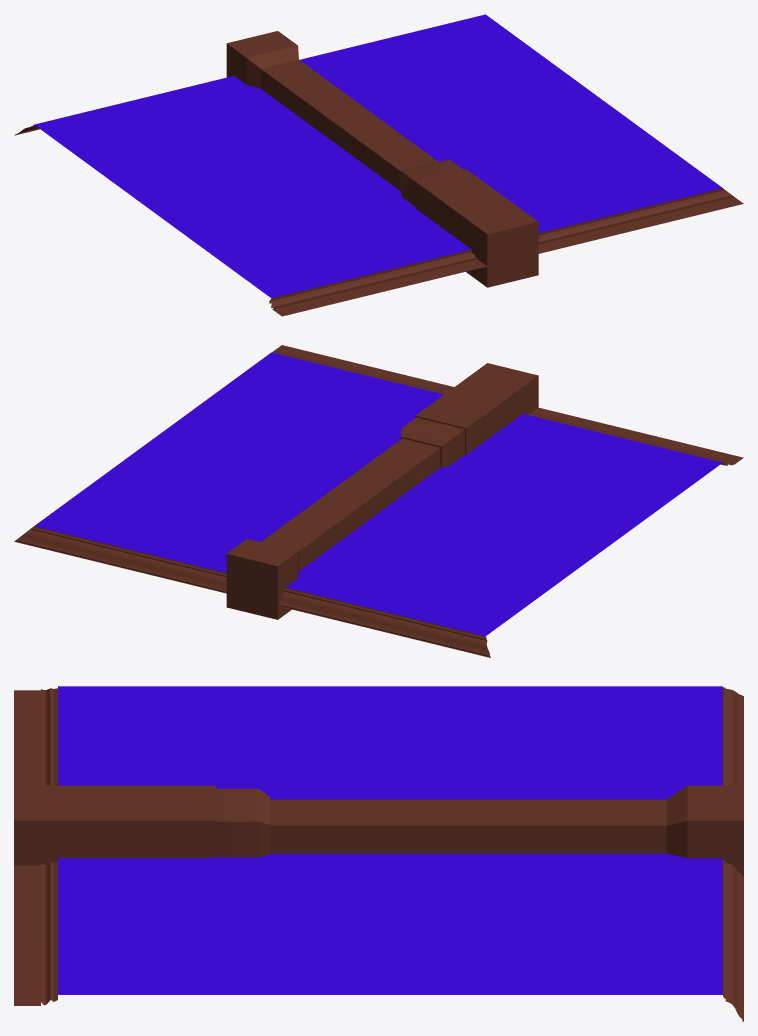
Rendered from Wall.dae.
3 renders of one model, top to bottom at view 1: azimuth 30°, elevation 25°; view 2: azimuth 150°, elevation 25°; view 3: azimuth 270°, elevation 25°, orthographic. The views are drawn at different scales.
Parts seen in each view (by area): view 1: Plane, Cube; view 2: Plane, Cube; view 3: Plane, Cube.
Boxes of the visible parts, x1=… form: Plane: x1=14, y1=14, x2=743, y2=316; Cube: x1=226, y1=31, x2=538, y2=287; Plane: x1=14, y1=345, x2=743, y2=657; Cube: x1=226, y1=363, x2=538, y2=619; Plane: x1=14, y1=686, x2=743, y2=1021; Cube: x1=14, y1=785, x2=743, y2=876.
Size of the model in its own units: 3.16 by 3 by 0.3409.
